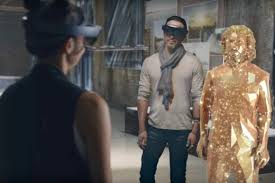hololens: (22, 14, 104, 50), (160, 24, 190, 44)
